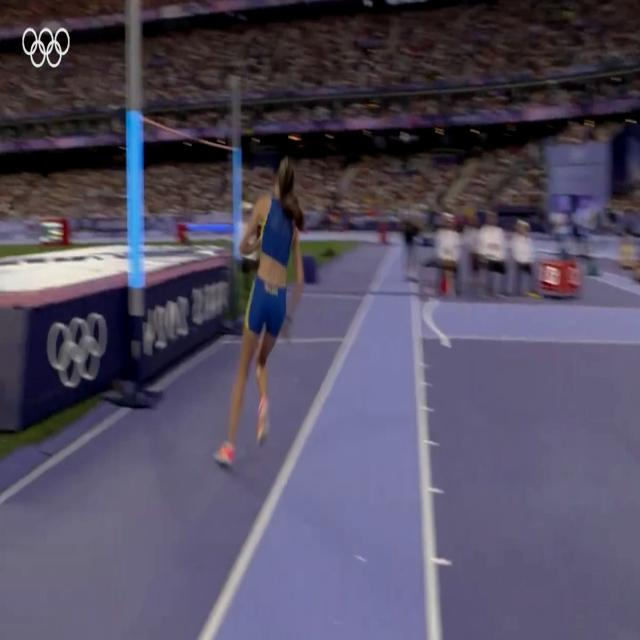run: (213, 155, 303, 469)
